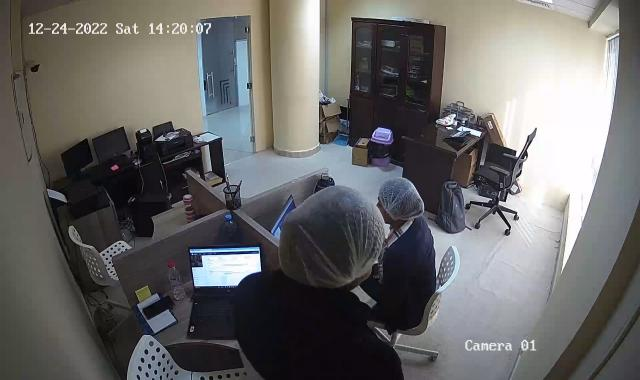hairnet: (283, 186, 383, 286), (377, 178, 423, 225)
